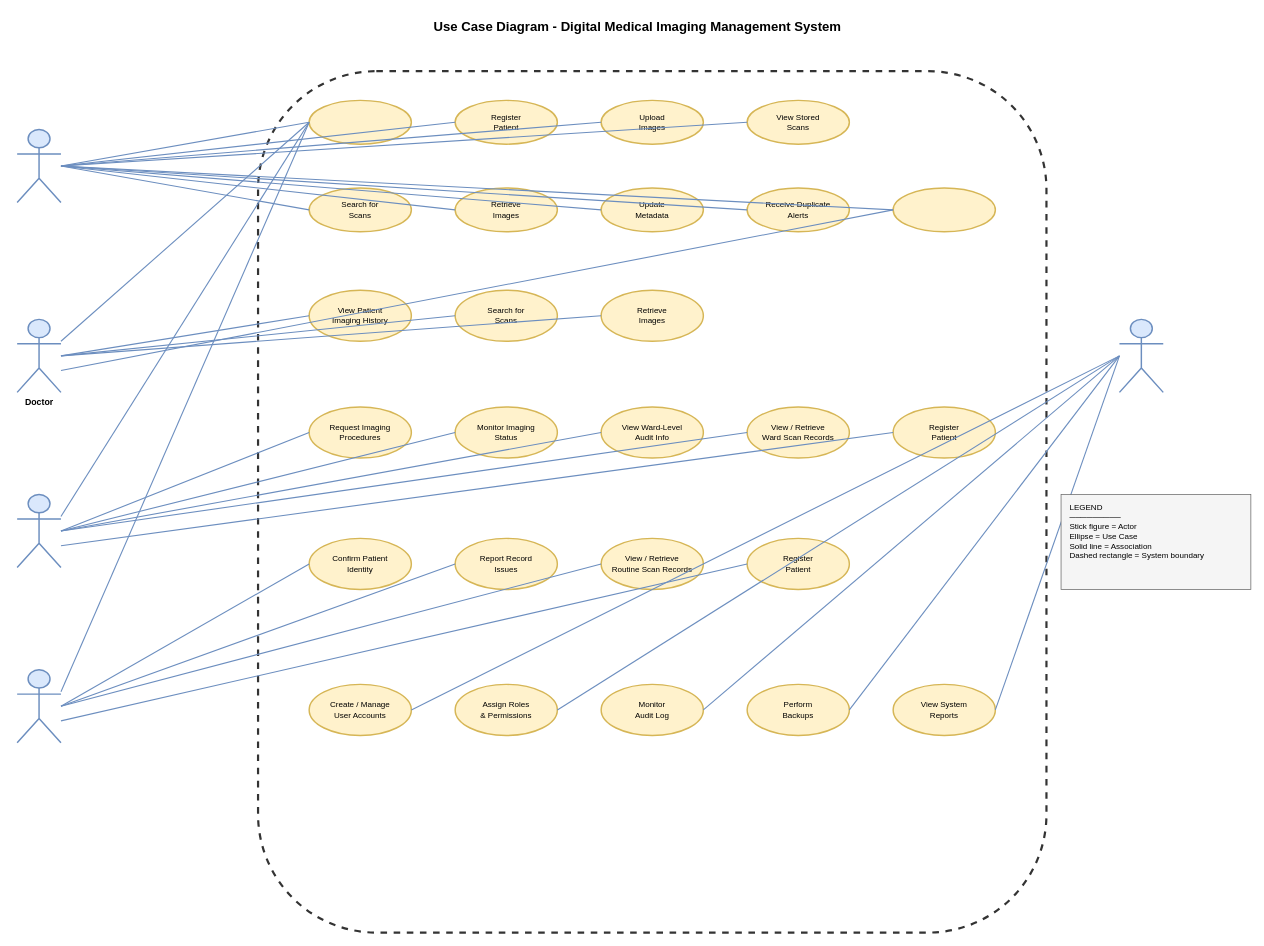
Some shapes in this 1264 by 946 pixel diagram are drawn without their labels. The box of each missing label's shape, as (x1, y1, x2, y2) in pixels:
Administrator: (1118, 318, 1164, 393)
Digital Medical Imaging Management System: (257, 70, 1047, 933)
Head Nurse: (16, 493, 61, 568)
Login / Authenticate: (308, 99, 412, 145)
Nurse: (16, 669, 61, 743)
Radiologist / Technician: (16, 128, 61, 203)
View Audit Trail: (892, 187, 996, 232)
